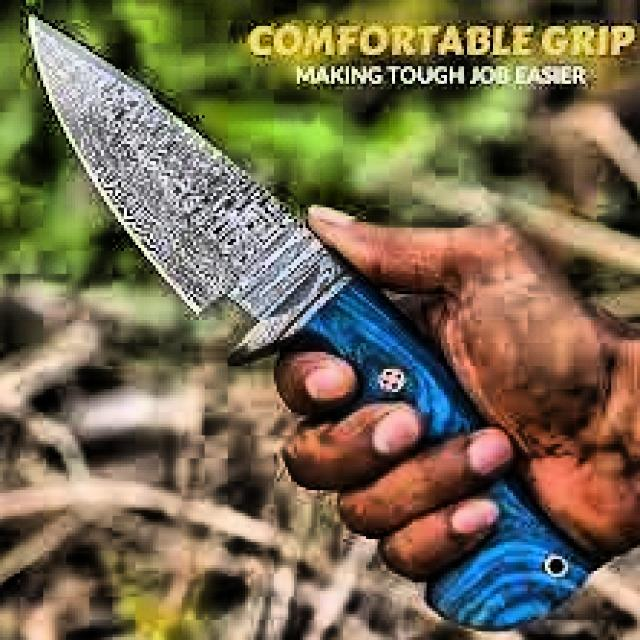knife: (29, 23, 596, 632)
